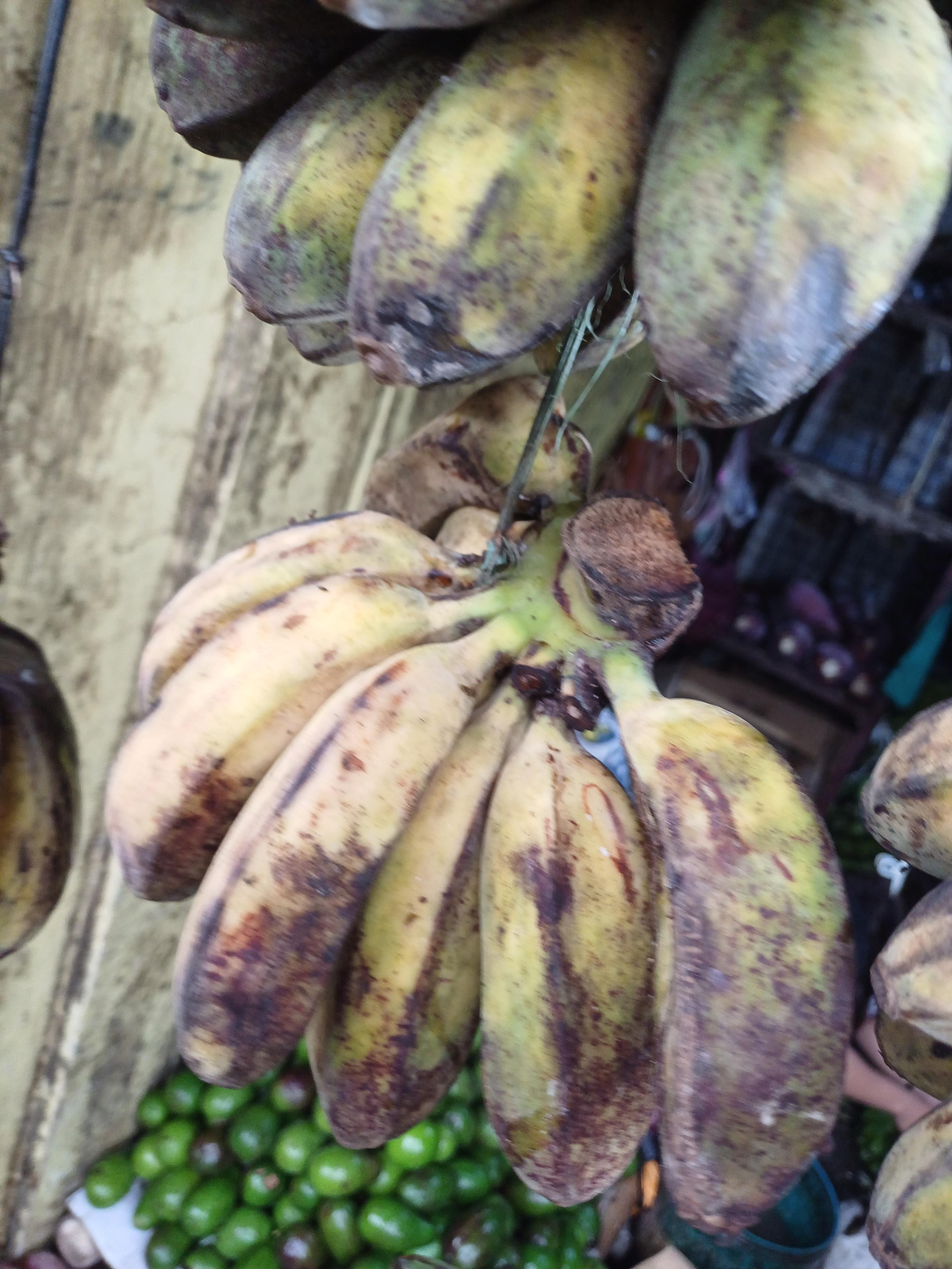underripe: (106, 379, 853, 1232), (147, 0, 952, 427)
